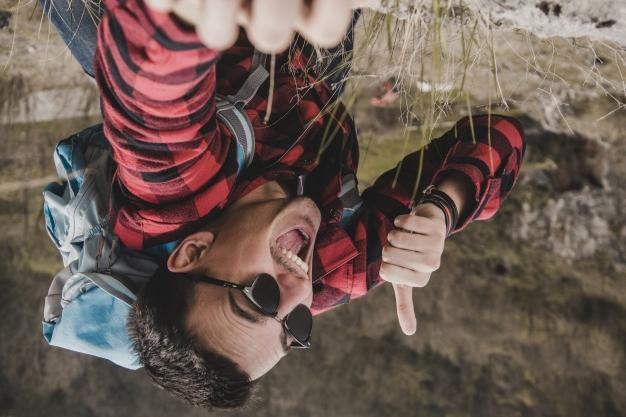thumbsdown: (378, 214, 445, 336)
